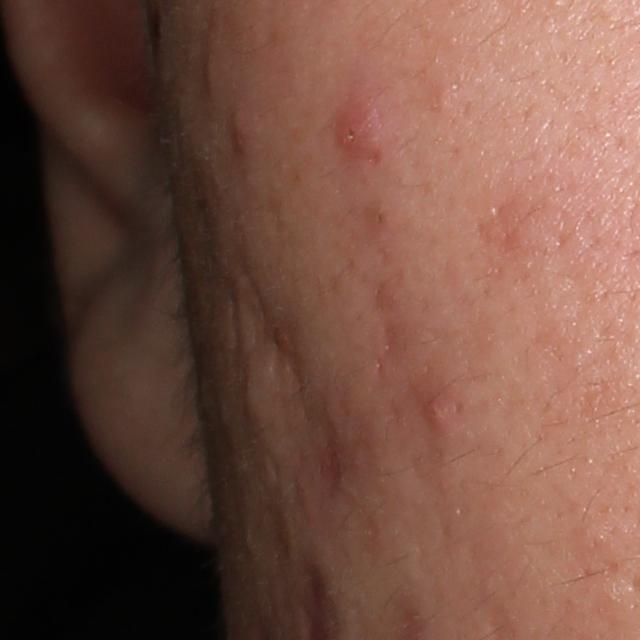atrophic_scar: (248, 254, 358, 508), (388, 424, 461, 522), (250, 452, 297, 577), (339, 505, 384, 586), (215, 282, 247, 386)
comedo: (360, 200, 394, 231)
papule: (333, 94, 389, 158), (229, 103, 254, 156), (419, 394, 453, 427)
